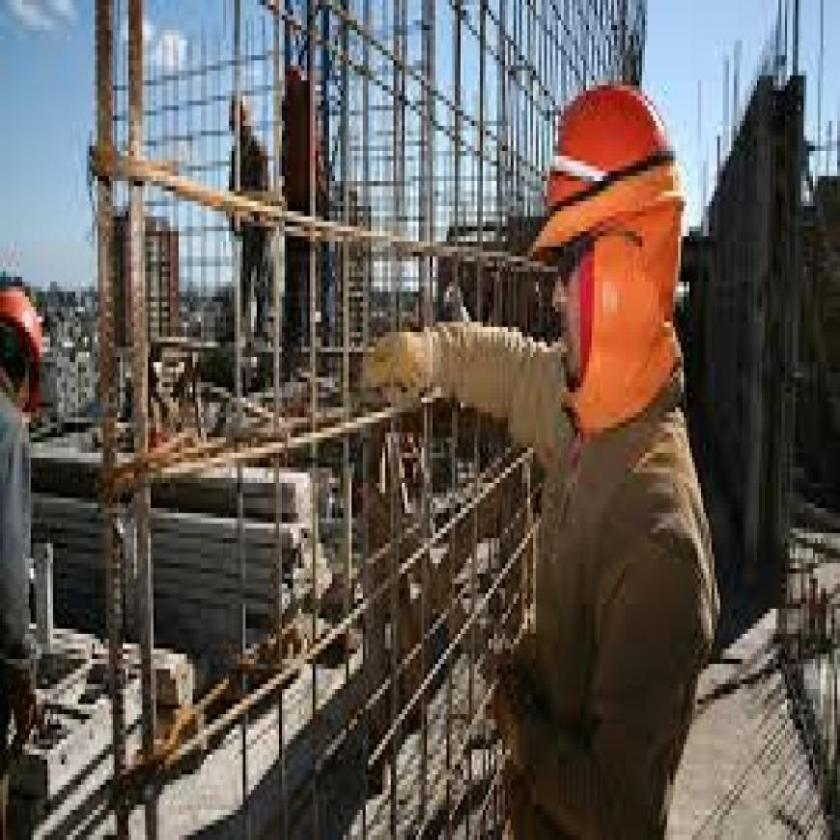Con_casco: (530, 73, 705, 445)
